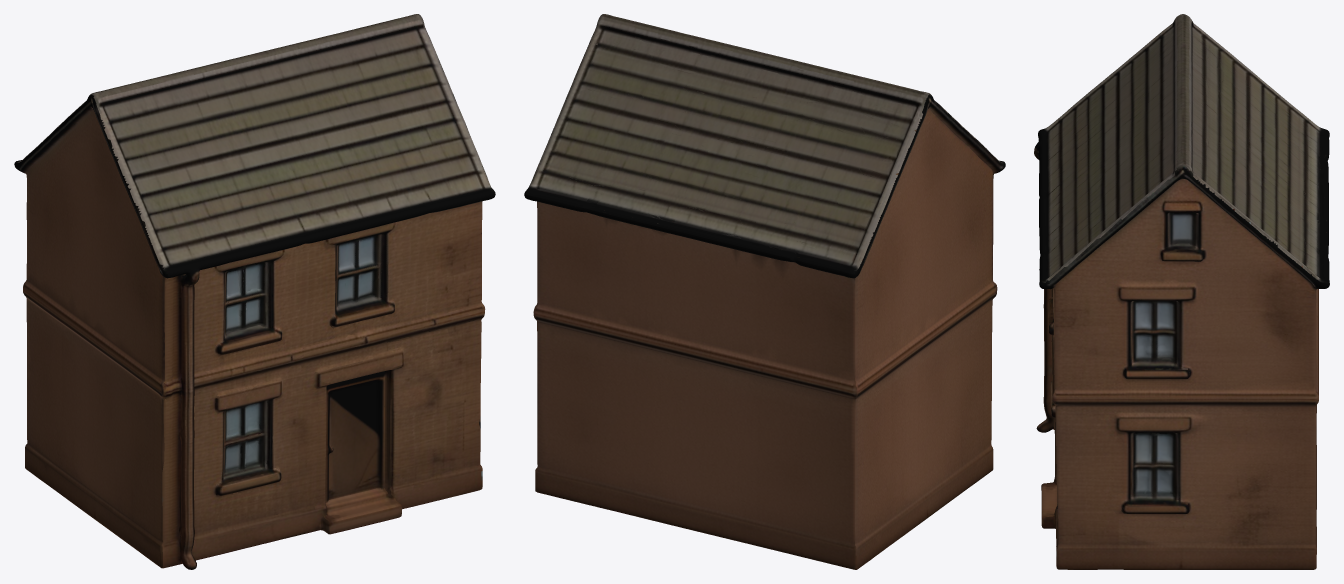
File: house-workers-house.glb
3 renders of one model, left to right at view 1: azimuth 30°, elevation 25°; view 2: azimuth 150°, elevation 25°; view 3: azimuth 270°, elevation 25°, orthographic. The views are drawn at different scales.
Parts seen in each view (by area): view 1: tmpiwwy5vx1.ply; view 2: tmpiwwy5vx1.ply; view 3: tmpiwwy5vx1.ply.
Part boxes in pixels (x1=…): tmpiwwy5vx1.ply: x1=14, y1=14, x2=495, y2=569; tmpiwwy5vx1.ply: x1=524, y1=14, x2=1005, y2=569; tmpiwwy5vx1.ply: x1=1034, y1=14, x2=1329, y2=569.
Bounding box in the file's own units: 1.59 × 1.96 × 1.29.
Materials: 1 (1 with a texture image).
